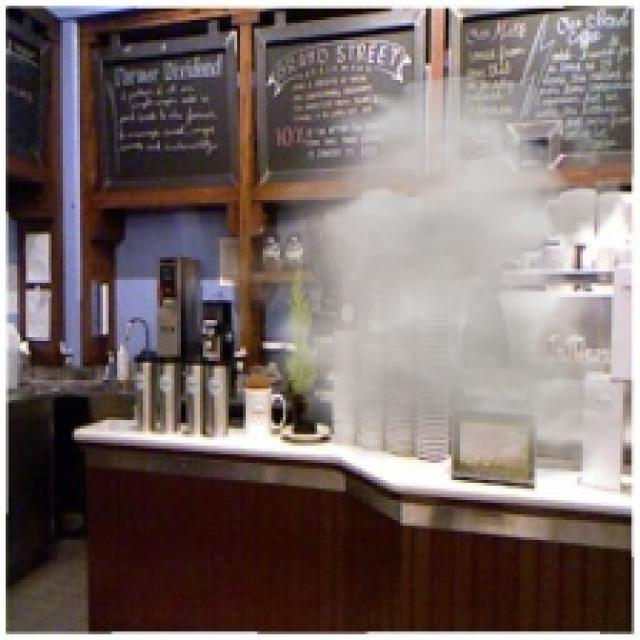smoke: (217, 74, 637, 483)
